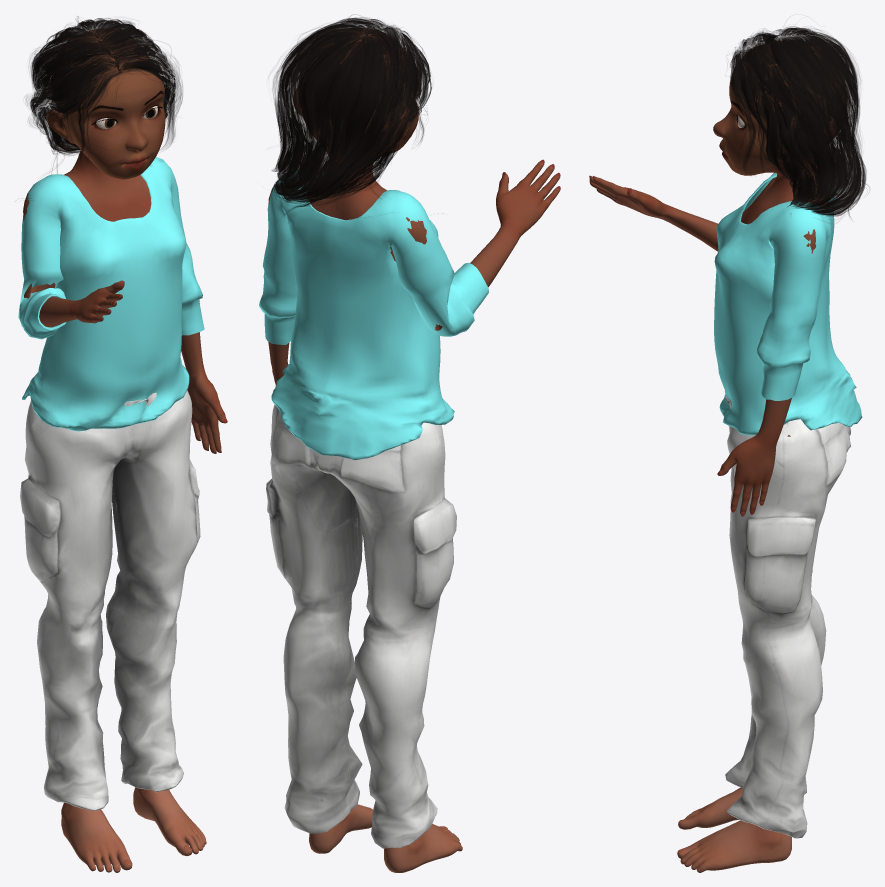
The model's file is customer.glb.
The picture shows the model from 3 angles, left to right: view 1: azimuth 30°, elevation 25°; view 2: azimuth 150°, elevation 25°; view 3: azimuth 270°, elevation 25°; orthographic projection. The views are drawn at different scales.
Visible parts, largest first — view 1: Cargo_pant_0_, __4_sleeves_tops_3_, CC_Base_Body, Side_Swept; view 2: Cargo_pant_0_, __4_sleeves_tops_3_, Side_Swept, CC_Base_Body; view 3: Cargo_pant_0_, __4_sleeves_tops_3_, Side_Swept, CC_Base_Body.
Boxes of the visible parts, <box> form: Cargo_pant_0_: <box>20,390,200,810</box>; __4_sleeves_tops_3_: <box>18,157,204,431</box>; CC_Base_Body: <box>23,29,227,872</box>; Side_Swept: <box>26,16,182,173</box>; Cargo_pant_0_: <box>266,404,456,848</box>; __4_sleeves_tops_3_: <box>259,170,488,460</box>; Side_Swept: <box>271,15,431,213</box>; CC_Base_Body: <box>268,28,560,872</box>; Cargo_pant_0_: <box>724,391,850,838</box>; __4_sleeves_tops_3_: <box>714,173,862,435</box>; Side_Swept: <box>730,26,869,217</box>; CC_Base_Body: <box>589,41,846,872</box>.
Bounding box in the file's own units: 0.3895 × 1.58 × 0.4915.
18 materials, 18 textured.
